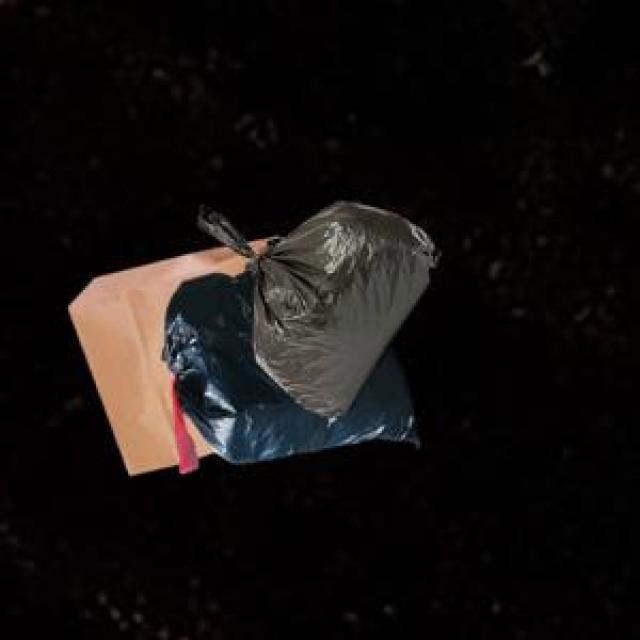miscellaneous trash: (158, 267, 416, 469), (194, 198, 435, 414)
paper: (64, 233, 275, 472)
